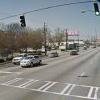Car: (11, 51, 43, 69)
